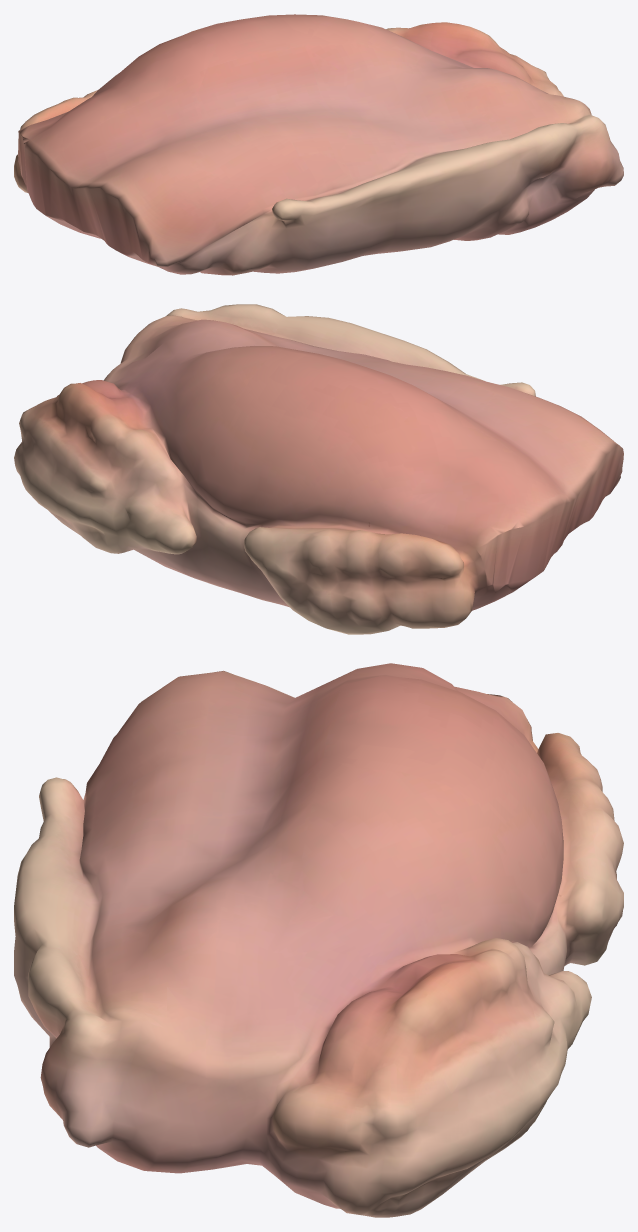
3 renders of one model, top to bottom at view 1: azimuth 30°, elevation 25°; view 2: azimuth 150°, elevation 25°; view 3: azimuth 270°, elevation 25°, orthographic. The views are drawn at different scales.
Visible parts, largest first — view 1: Chicken Slice; view 2: Chicken Slice; view 3: Chicken Slice.
Part boxes in pixels (bbox=[...]): Chicken Slice: bbox=[14, 14, 623, 275]; Chicken Slice: bbox=[14, 304, 623, 634]; Chicken Slice: bbox=[14, 663, 623, 1217].
Size of the model in its own units: 0.998 by 0.3887 by 0.6699.
Materials: 1 (1 with a texture image).
